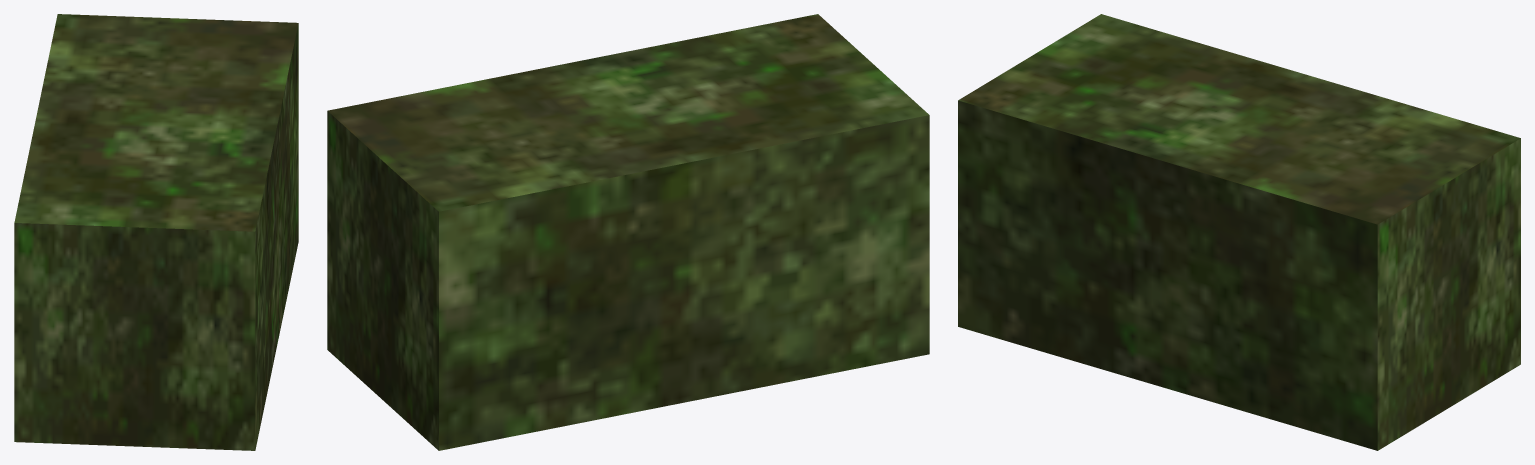
File: OVERHILL_A_01_STONE_BLOCK_17.fbx
The picture shows the model from 3 angles, left to right: view 1: azimuth 30°, elevation 25°; view 2: azimuth 150°, elevation 25°; view 3: azimuth 270°, elevation 25°; orthographic projection. The views are drawn at different scales.
Visible parts, largest first — view 1: OVERHILL_A_01_STONE_BLOCK_17; view 2: OVERHILL_A_01_STONE_BLOCK_17; view 3: OVERHILL_A_01_STONE_BLOCK_17.
Boxes of the visible parts, x1,y1,x2,y2 form: OVERHILL_A_01_STONE_BLOCK_17: (14,14,298,450); OVERHILL_A_01_STONE_BLOCK_17: (327,14,929,450); OVERHILL_A_01_STONE_BLOCK_17: (958,14,1520,450).
Size of the model in its own units: 15792 by 7913 by 17836.
1 material, 1 textured.
